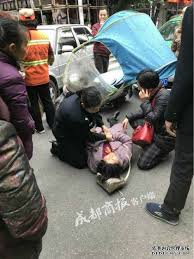fall: (84, 115, 135, 191)
